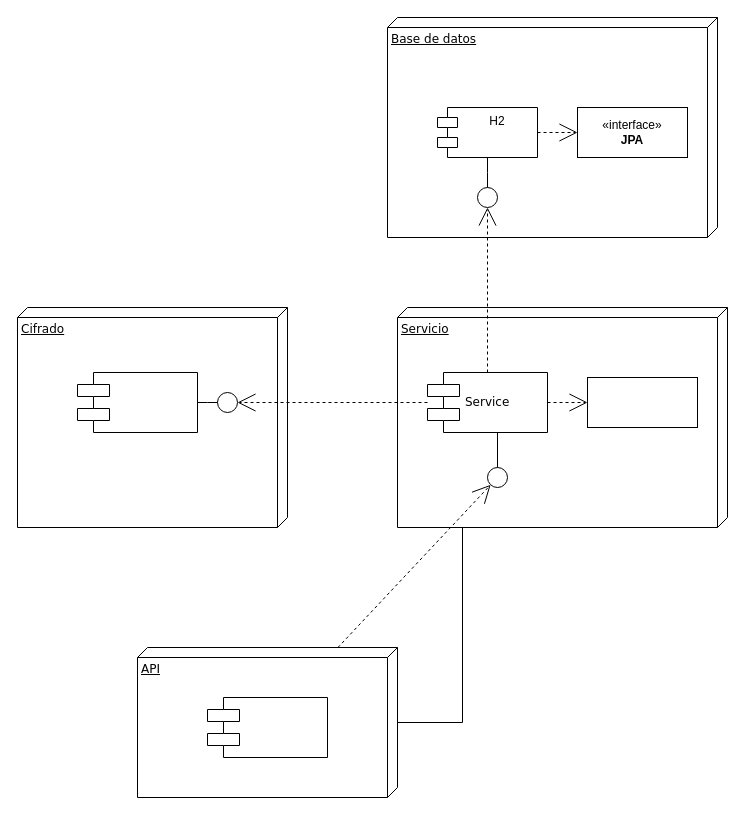
Image size: 745x815. Some labels were removed from this diagram. The shapes that lost their labels are listed below. From the top down, each one's centre as x and y in pixels, then its label:
At (x=137, y=402): "Auth".
At (x=642, y=402): "«interface» UserService".
At (x=267, y=727): "Module".
